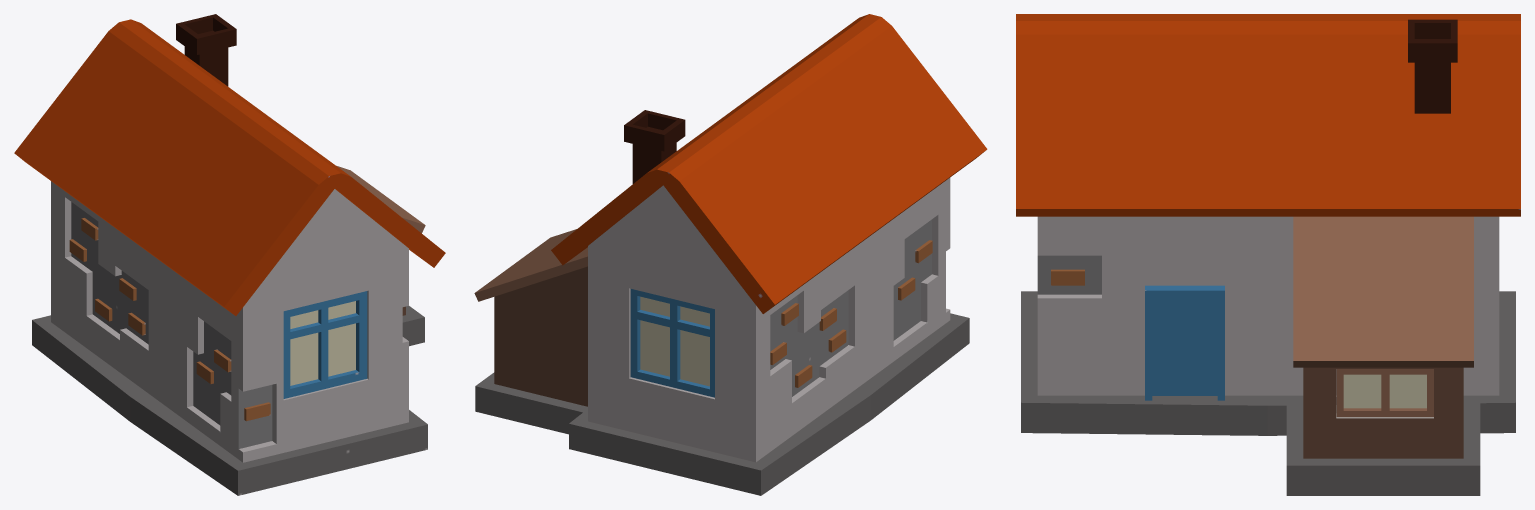
File: House2.fbx
The picture shows the model from 3 angles, left to right: view 1: azimuth 30°, elevation 25°; view 2: azimuth 150°, elevation 25°; view 3: azimuth 270°, elevation 25°; orthographic projection. The views are drawn at different scales.
Visible parts, largest first — view 1: Cube.012; view 2: Cube.012; view 3: Cube.012.
Boxes of the visible parts, box(x1,y1,x2,y2) form: Cube.012: box(14, 14, 445, 495); Cube.012: box(474, 14, 987, 495); Cube.012: box(1016, 14, 1520, 495).
Size of the model in its own units: 382 by 357 by 439.
